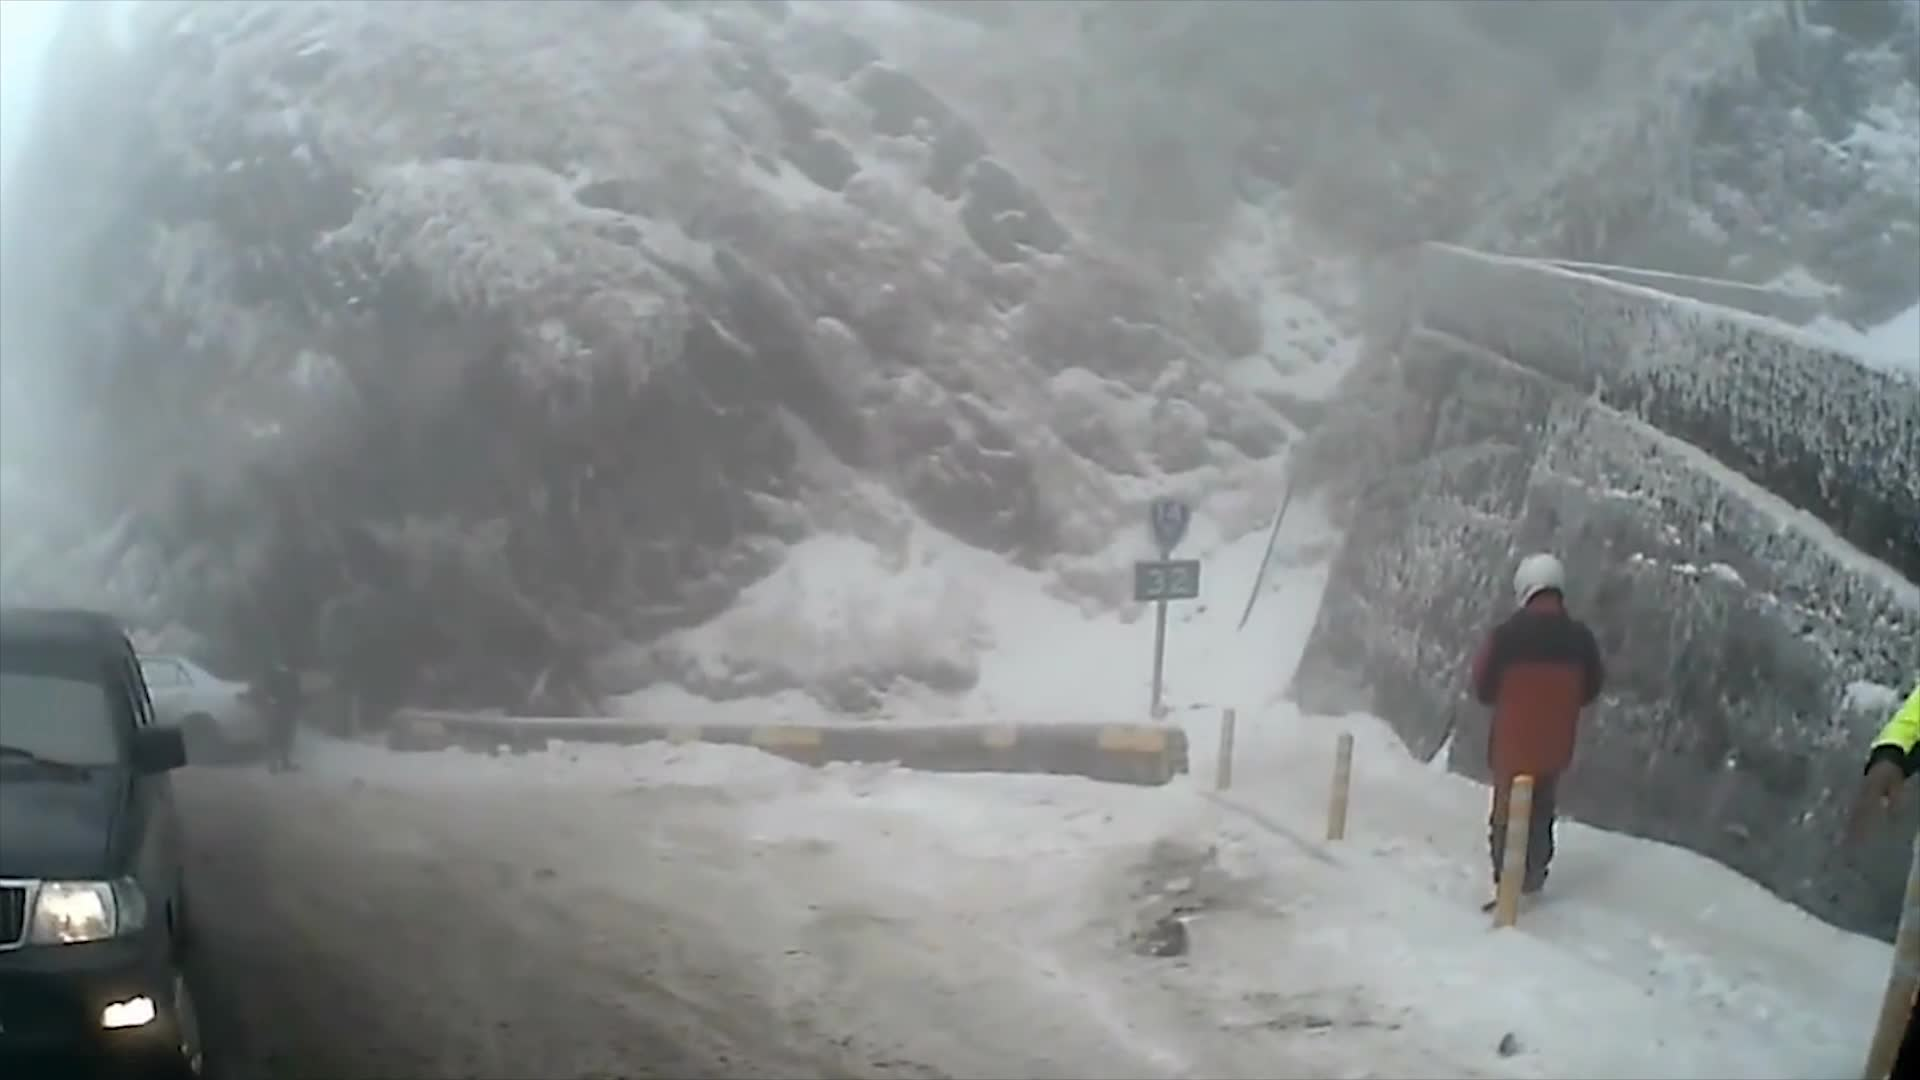pedestrian: (1473, 553, 1605, 909), (265, 653, 308, 774)
vehicle: (0, 609, 224, 1080)
